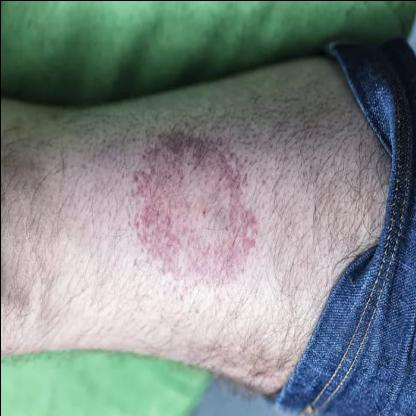Tick: (125, 128, 261, 290)
